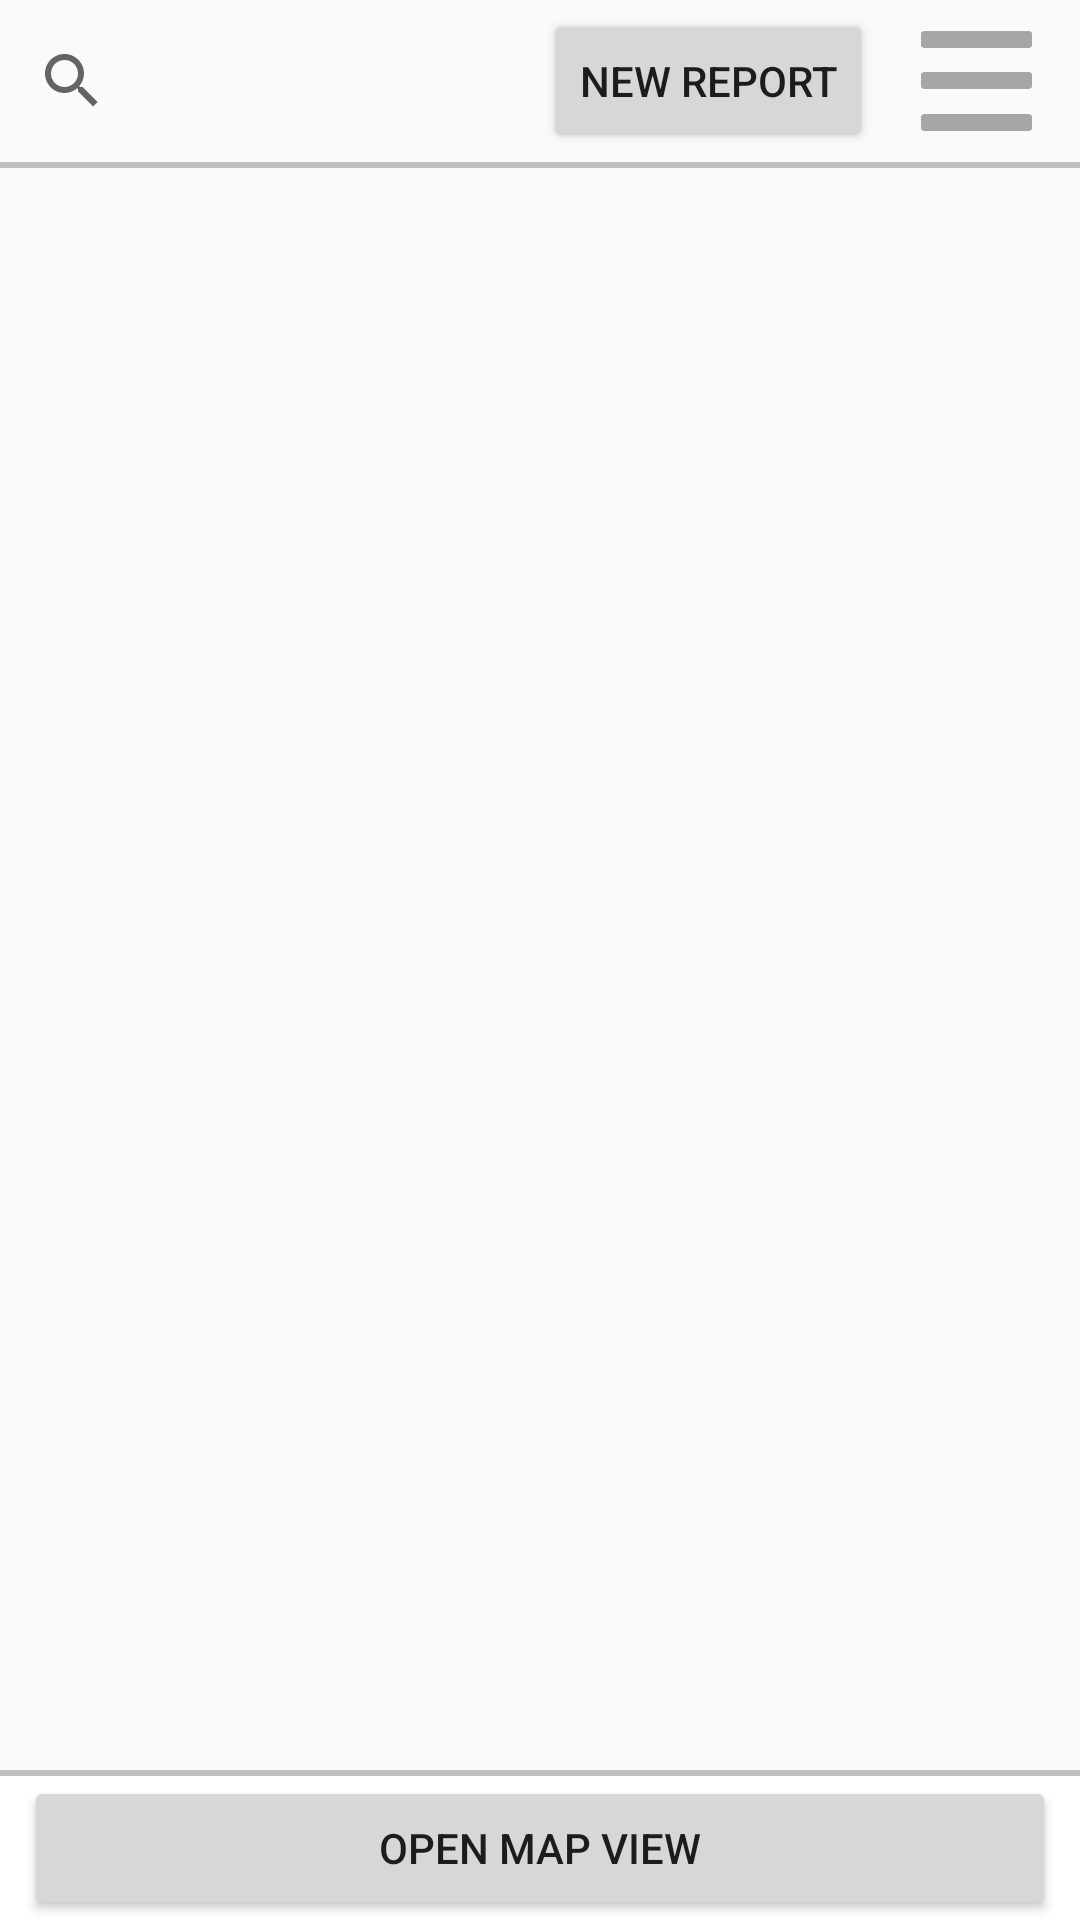

Icon bounding boxes for this 1080px×1920px phone screenshot, format (x1=x1, y1=y1, x2=x2, y2=y2):
hamburger menu: (x1=921, y1=31, x2=1032, y2=131)
